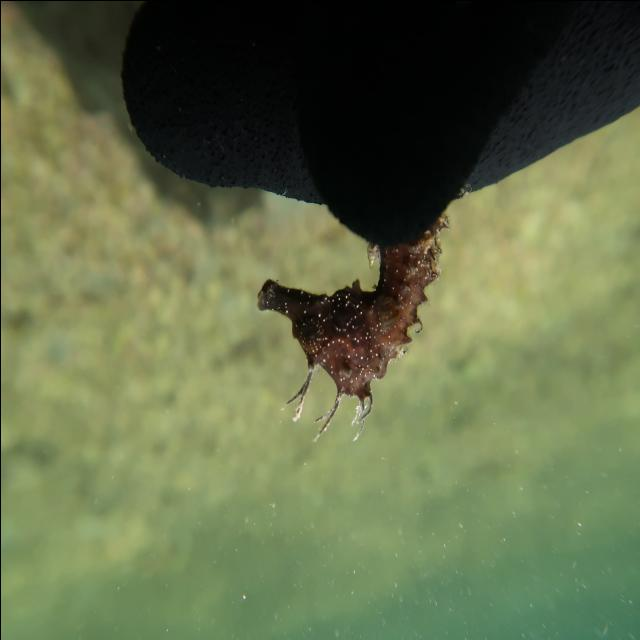Guttu: (252, 268, 391, 404)
